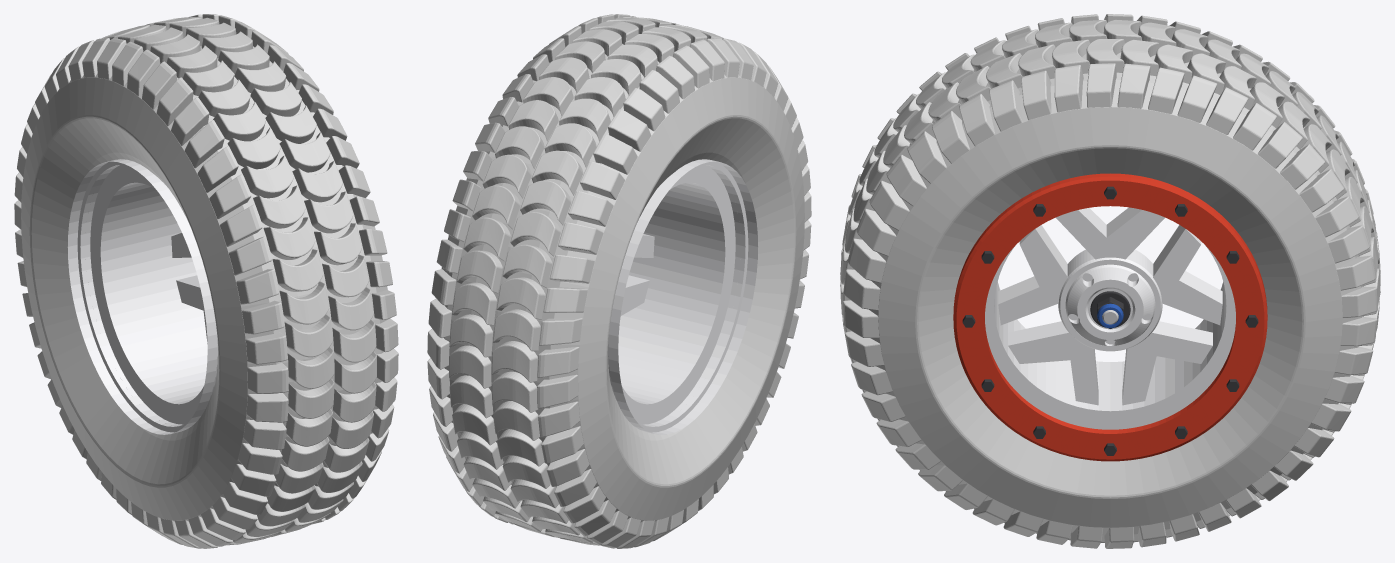
File: traxxas_6873T_wheel_L.dae
The picture shows the model from 3 angles, left to right: view 1: azimuth 30°, elevation 25°; view 2: azimuth 150°, elevation 25°; view 3: azimuth 270°, elevation 25°; orthographic projection. The views are drawn at different scales.
Parts seen in each view (by area): view 1: Tire_Carcass, Wheel_Barrel, Tread_UnitMesh_L.009, Tread_UnitMesh_L.013, Tread_UnitMesh_L.014, Tread_UnitMesh_L.002, Tread_UnitMesh_L.006, Tread_UnitMesh_L.015, Tread_UnitMesh_L, Tread_UnitMesh_L.001, Tread_UnitMesh_L.022, Tread_UnitMesh_L.011 (+7 smaller); view 2: Tire_Carcass, Wheel_Barrel, Tread_UnitMesh_L.021, Tread_UnitMesh_L.023, Tread_UnitMesh_L.012, Tread_UnitMesh_L.008, Tread_UnitMesh_L.007, Tread_UnitMesh_L.016, Tread_UnitMesh_L.003, Tread_UnitMesh_L.022, Tread_UnitMesh_L.010, Tread_UnitMesh_L (+7 smaller); view 3: Tire_Carcass, Cylinder_001, Spoke_0, Wheel_Barrel, Cylinder, Tread_UnitMesh_L.022, Tread_UnitMesh_L, Tread_UnitMesh_L.016, Tread_UnitMesh_L.006, Tread_UnitMesh_L.008, Tread_UnitMesh_L.013, Tread_UnitMesh_L.021 (+19 smaller).
Part boxes in pixels (left/top/right/bottom): Tire_Carcass: left=21, top=46, right=390, bottom=521; Wheel_Barrel: left=67, top=159, right=217, bottom=434; Tread_UnitMesh_L.009: left=236, top=249, right=396, bottom=334; Tread_UnitMesh_L.013: left=197, top=127, right=370, bottom=218; Tread_UnitMesh_L.014: left=220, top=185, right=387, bottom=275; Tread_UnitMesh_L.002: left=245, top=314, right=398, bottom=393; Tread_UnitMesh_L.006: left=171, top=79, right=347, bottom=168; Tread_UnitMesh_L.015: left=243, top=377, right=397, bottom=449; Tread_UnitMesh_L: left=142, top=44, right=319, bottom=126; Tread_UnitMesh_L.001: left=231, top=428, right=389, bottom=496; Tread_UnitMesh_L.022: left=112, top=21, right=288, bottom=96; Tread_UnitMesh_L.011: left=212, top=476, right=367, bottom=529; Tire_Carcass: left=441, top=43, right=804, bottom=522; Wheel_Barrel: left=608, top=159, right=757, bottom=434; Tread_UnitMesh_L.021: left=452, top=151, right=613, bottom=256; Tread_UnitMesh_L.023: left=428, top=269, right=582, bottom=382; Tread_UnitMesh_L.012: left=436, top=209, right=594, bottom=319; Tread_UnitMesh_L.008: left=475, top=97, right=637, bottom=199; Tread_UnitMesh_L.007: left=427, top=329, right=579, bottom=440; Tread_UnitMesh_L.016: left=502, top=54, right=665, bottom=151; Tread_UnitMesh_L.003: left=429, top=386, right=589, bottom=488; Tread_UnitMesh_L.022: left=533, top=26, right=694, bottom=113; Tread_UnitMesh_L.010: left=438, top=435, right=605, bottom=523; Tread_UnitMesh_L: left=577, top=14, right=724, bottom=88; Tire_Carcass: left=869, top=33, right=1363, bottom=535; Cylinder_001: left=953, top=173, right=1267, bottom=461; Spoke_0: left=998, top=207, right=1222, bottom=405; Wheel_Barrel: left=985, top=244, right=1235, bottom=429; Cylinder: left=1058, top=249, right=1162, bottom=351; Tread_UnitMesh_L.022: left=1086, top=14, right=1176, bottom=108; Tread_UnitMesh_L: left=1018, top=14, right=1107, bottom=120; Tread_UnitMesh_L.016: left=1148, top=21, right=1241, bottom=122; Tread_UnitMesh_L.006: left=956, top=25, right=1038, bottom=146; Tread_UnitMesh_L.008: left=1206, top=44, right=1297, bottom=150; Tread_UnitMesh_L.013: left=904, top=53, right=974, bottom=183; Tread_UnitMesh_L.021: left=1257, top=82, right=1341, bottom=189.
Bounding box in the file's own units: 0.0393 × 0.1095 × 0.1095.
